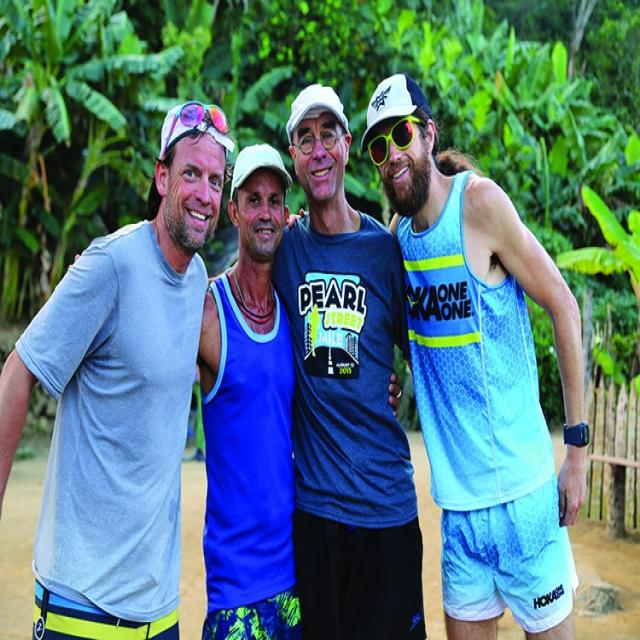body: (282, 70, 594, 638), (64, 138, 407, 640), (0, 84, 237, 638), (270, 80, 430, 640)
